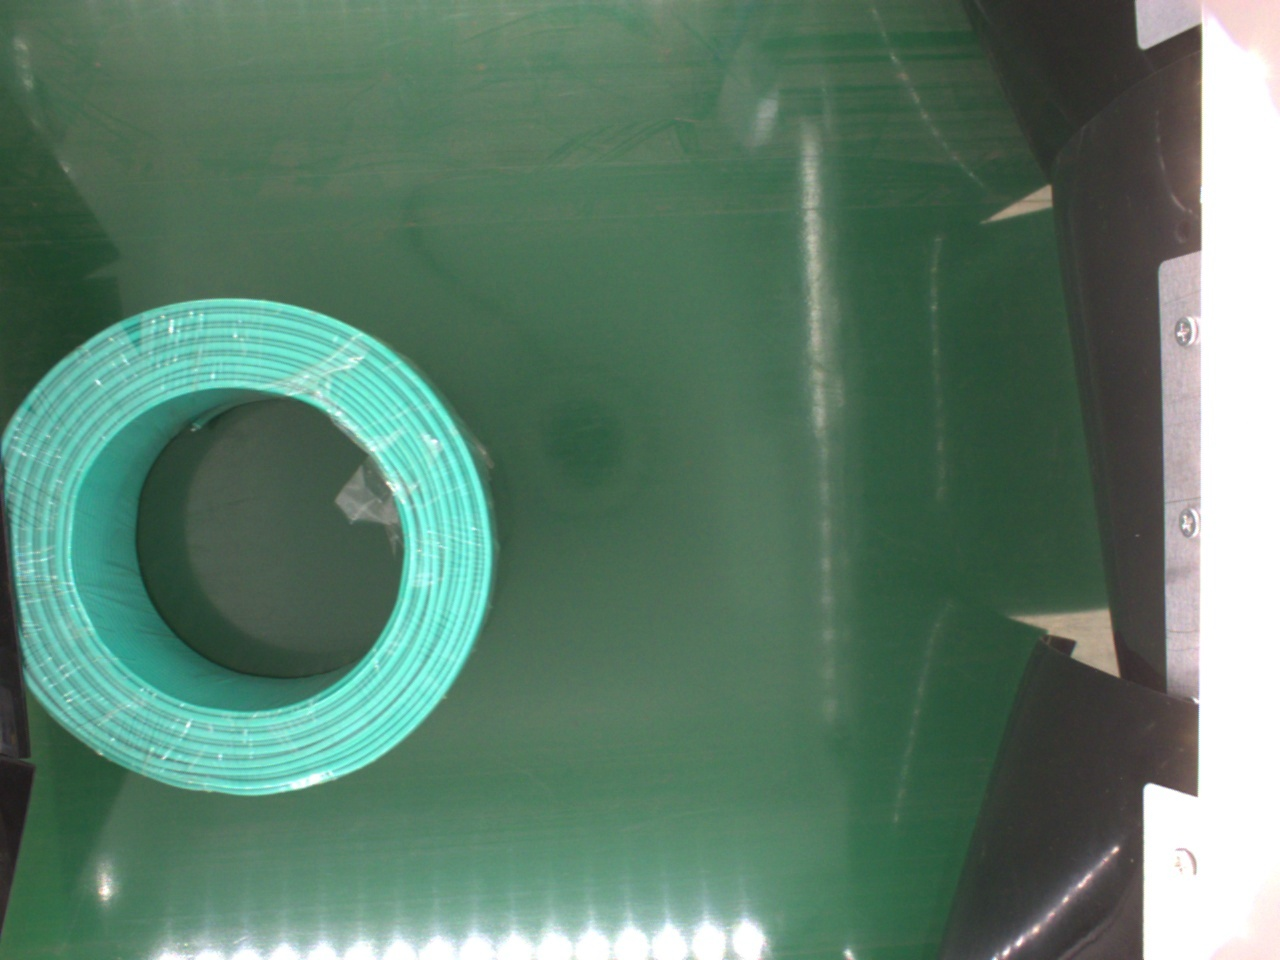green: (14, 296, 499, 800)
